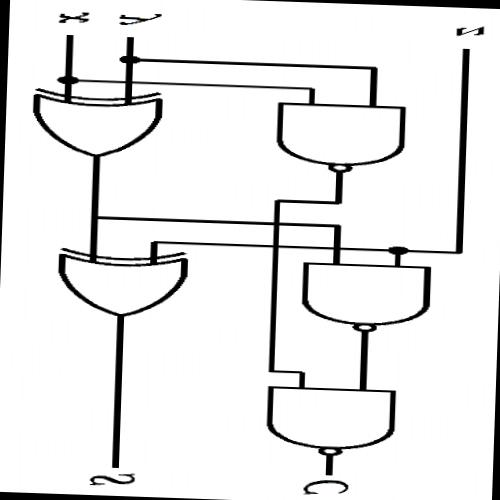nand: (266, 98, 412, 178), (256, 382, 404, 460), (292, 258, 436, 337)
xor: (45, 244, 196, 321), (20, 85, 168, 162)
